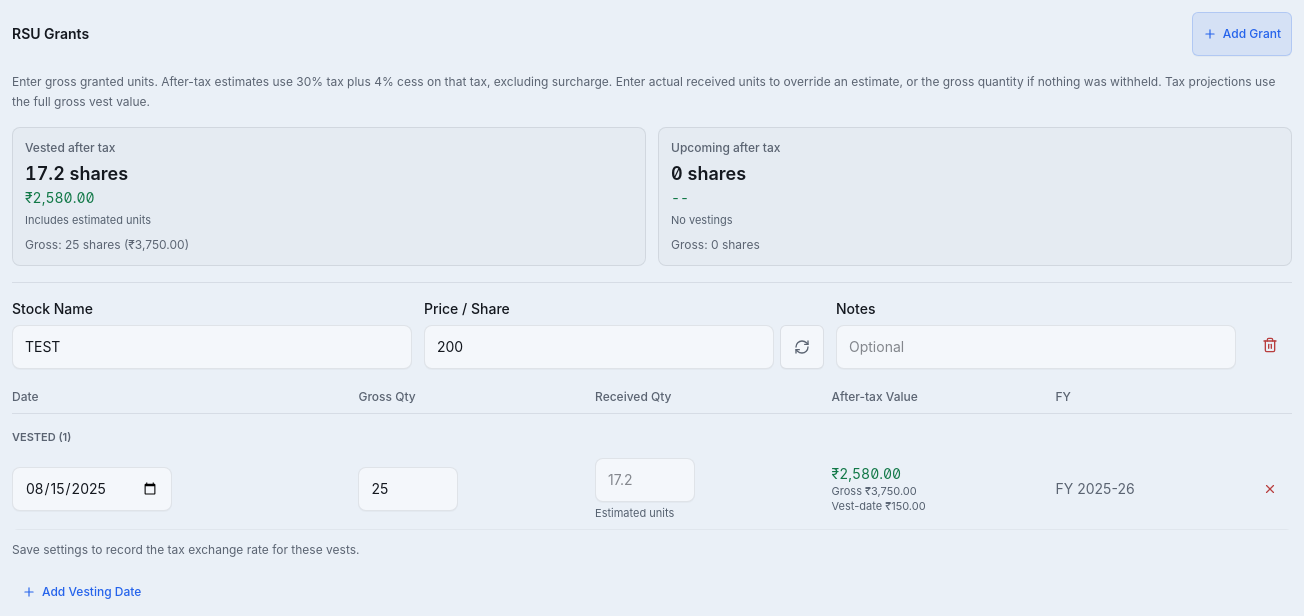
RSU received-unit settings › uses fractional actuals consistently while retaining the gross tax basis
In the number field named "Actual shares received after tax for TEST vesting 1": (645, 480) [595,458,695,502], type "17.212345"
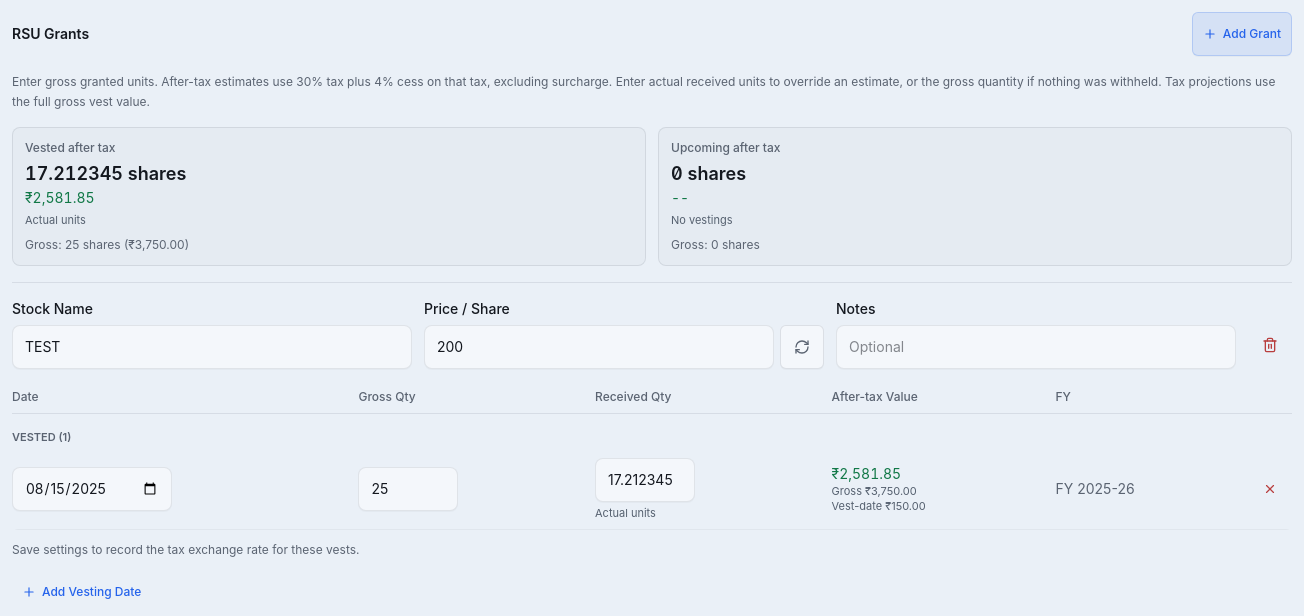
Now the text "Actual units" next to "Vest-date ₹150.00" is shown, box [595,506,656,520]
Now the text "₹2,581.85" next to "FY 2025-26" is shown, box [832,465,901,482]
Now the text "17.212345 shares" is shown, box [25,163,186,184]
